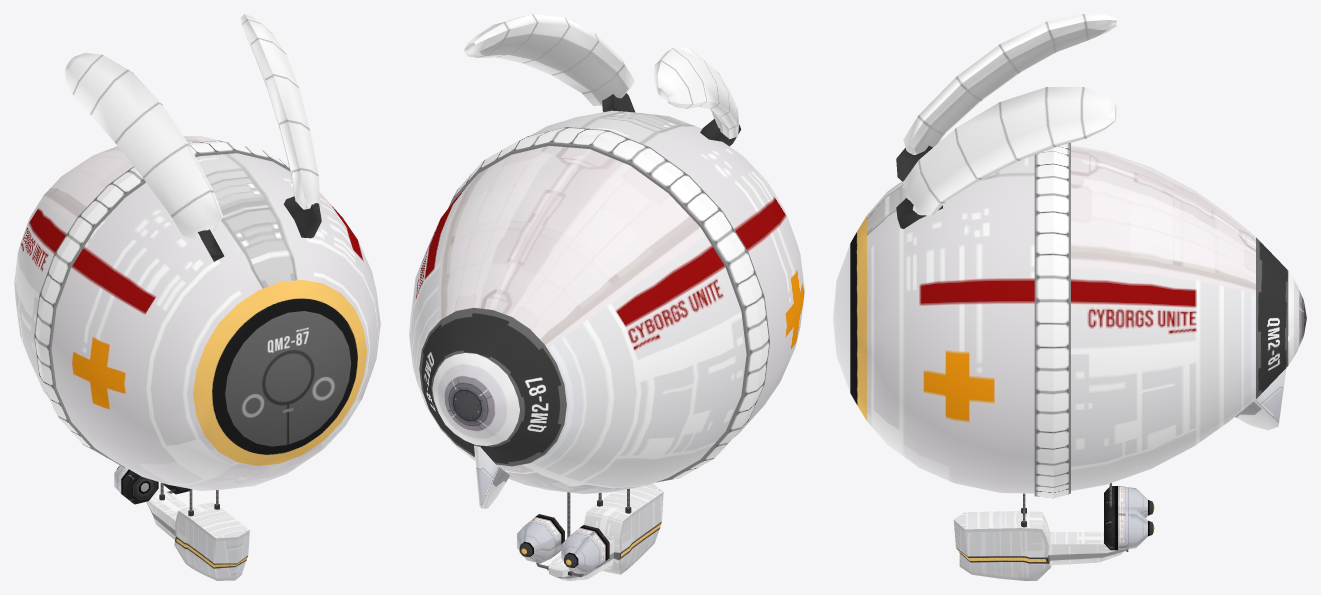
The model's file is airship.glb.
The picture shows the model from 3 angles, left to right: view 1: azimuth 30°, elevation 25°; view 2: azimuth 150°, elevation 25°; view 3: azimuth 270°, elevation 25°; orthographic projection. The views are drawn at different scales.
Parts seen in each view (by area): view 1: airship_lp_body, airship_lp_glass; view 2: airship_lp_body; view 3: airship_lp_body, airship_lp_glass.
Boxes of the visible parts, x1,y1,x2,y2 form: airship_lp_body: [14, 14, 380, 580]; airship_lp_glass: [225, 311, 350, 446]; airship_lp_body: [409, 14, 804, 580]; airship_lp_body: [850, 14, 1306, 580]; airship_lp_glass: [833, 246, 849, 390].
Bounding box in the file's own units: 29.24 × 46.86 × 38.39.
Materials: 2 (1 with a texture image).
